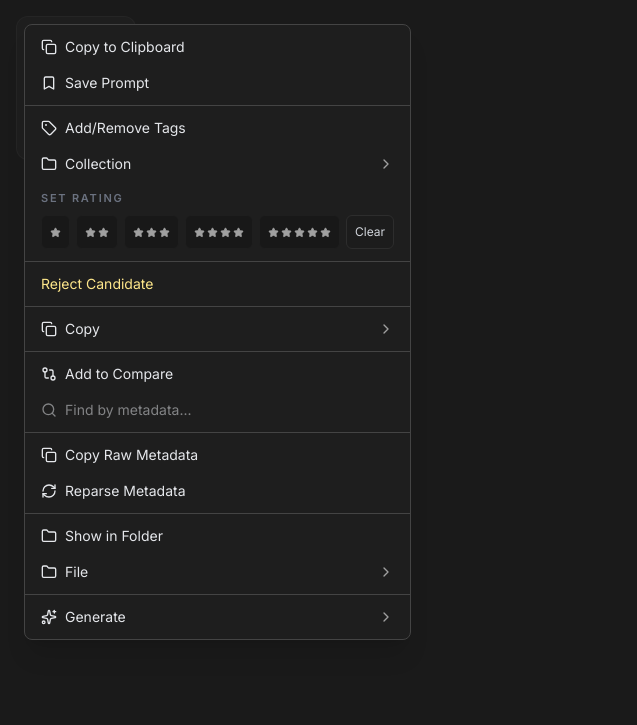
Test: ImageGrid context menu › starts inline rename from the image context menu
What coordinates should you click on to do the following:
click the button "File"
I would click on:
 (49, 572)
Its box is [25,554,410,590].
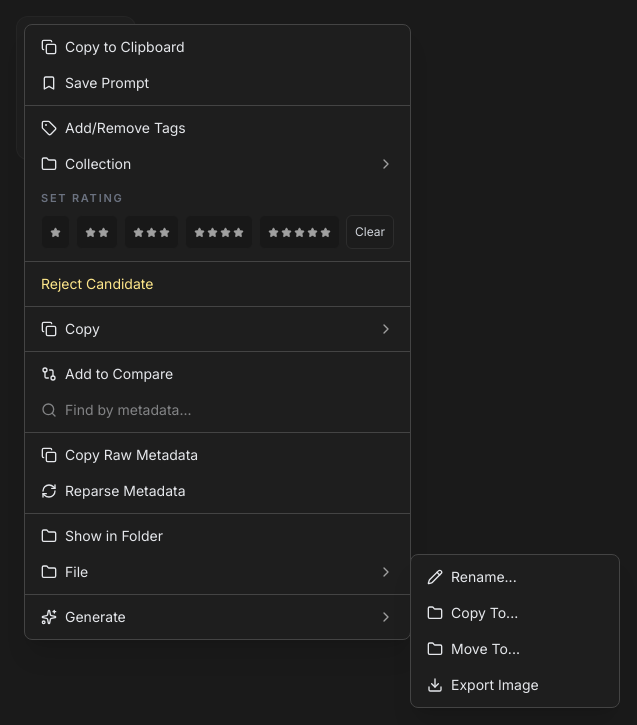
What coordinates should you click on to do the following:
click the button "Rename..."
I would click on:
 (515, 576)
Its box is [411,558,619,594].
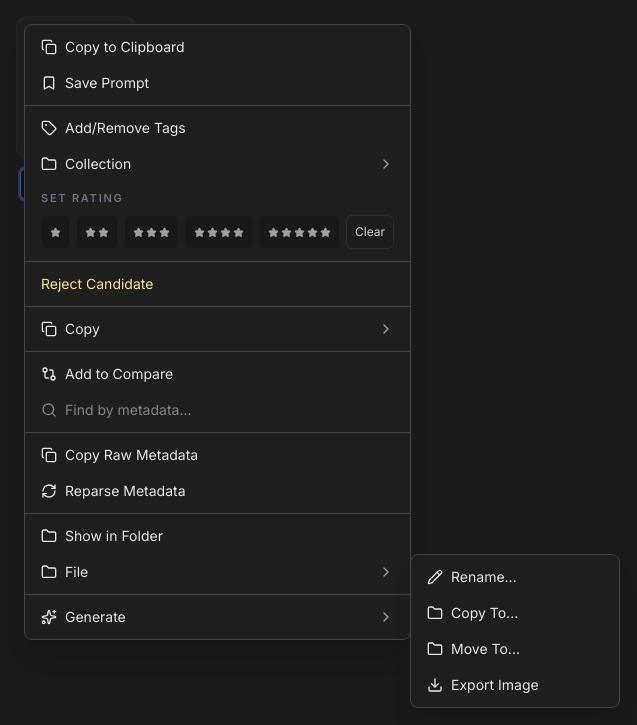
Now the field named "rename alpha.png" is shown, box [20,168,132,200]
